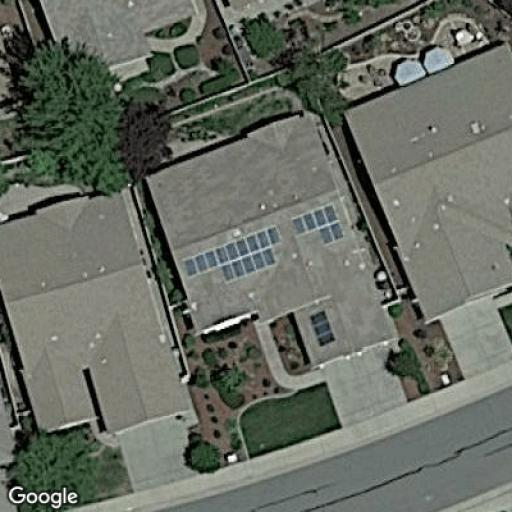solar-panel: (180, 224, 282, 285), (292, 203, 344, 247), (307, 308, 338, 349)
